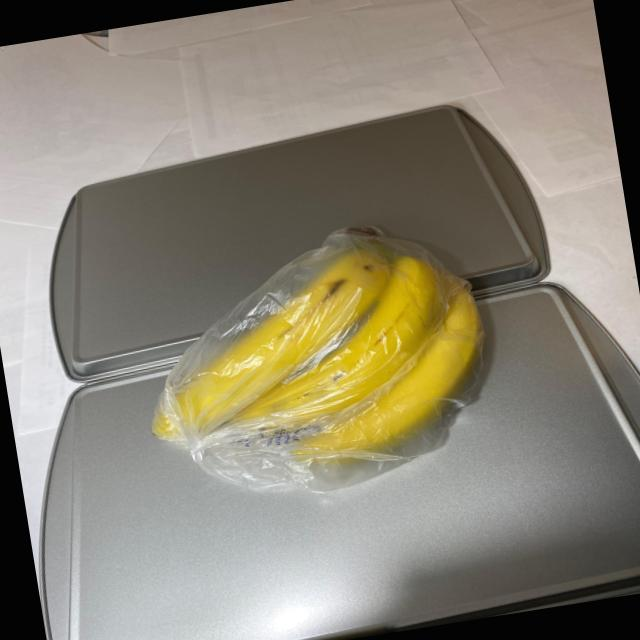banana: (117, 208, 510, 510)
